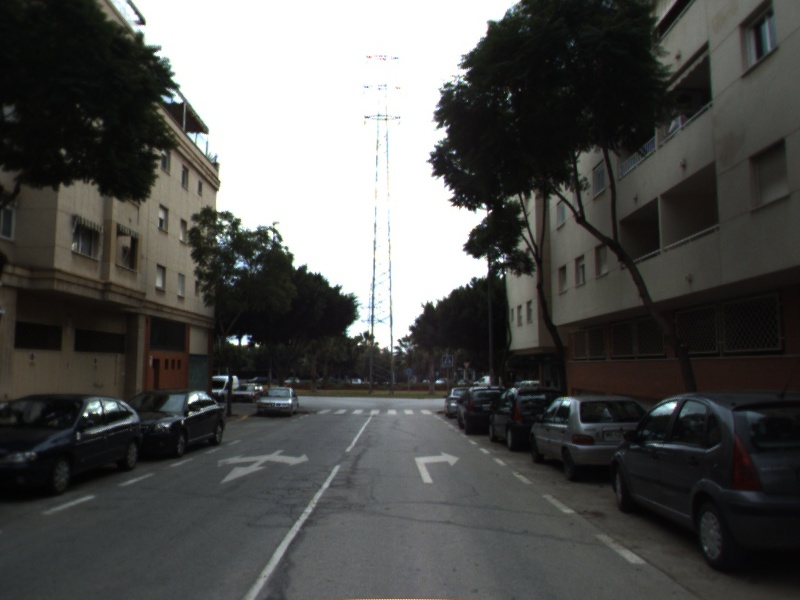RIGHT: (413, 450, 462, 485)
